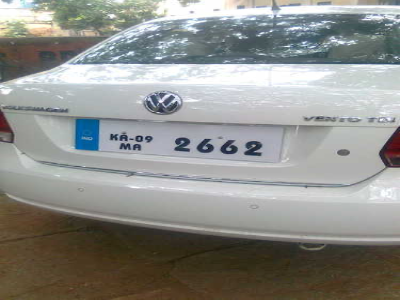licence: (106, 135, 274, 160)
